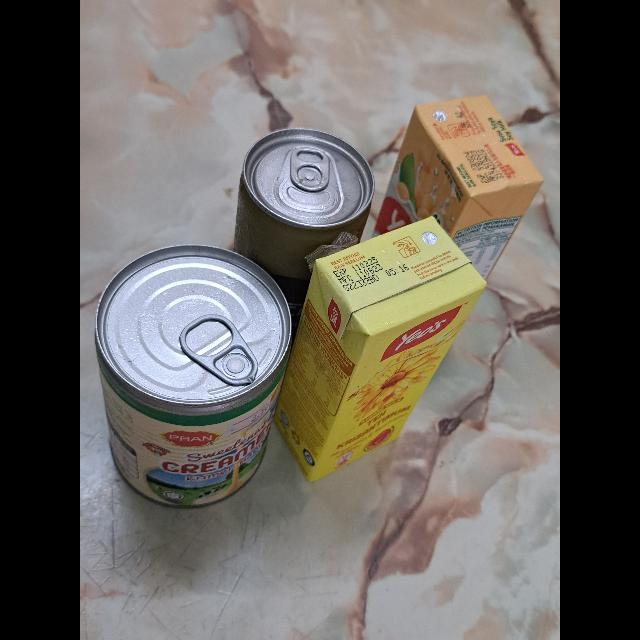aba de lata: (178, 312, 258, 388)
caixinha: (273, 214, 489, 482), (377, 98, 541, 282)
lata: (94, 242, 290, 510), (235, 130, 375, 284), (288, 144, 332, 192)
